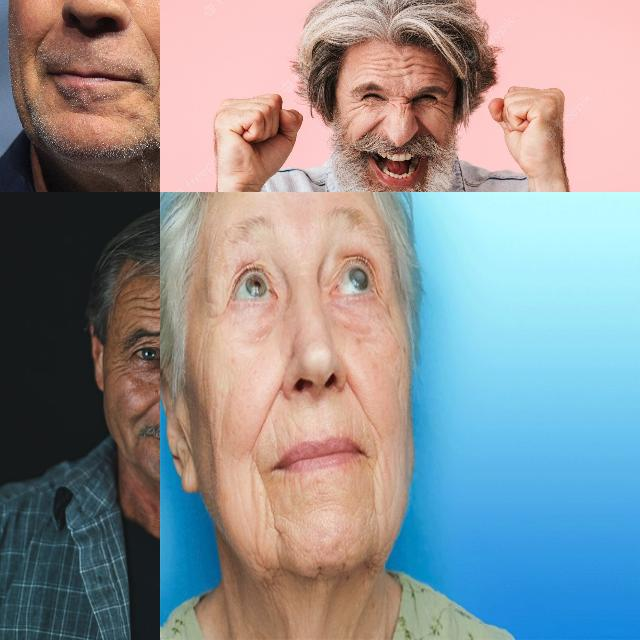crows_feet: (110, 356, 130, 382), (434, 97, 454, 115), (348, 95, 362, 114)
forehead: (396, 52, 424, 82), (133, 290, 160, 320), (368, 56, 390, 78), (428, 62, 442, 84)
frown_line: (396, 92, 412, 115)
gummy_smile: (134, 37, 160, 100), (254, 380, 279, 444), (29, 23, 55, 83), (344, 368, 368, 410), (128, 401, 158, 429), (414, 117, 438, 141), (363, 114, 383, 140)
masseter: (195, 342, 212, 391)
sad_smile: (260, 482, 286, 538), (368, 468, 382, 520)
